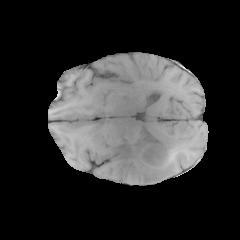glioma: (111, 135, 179, 184)
